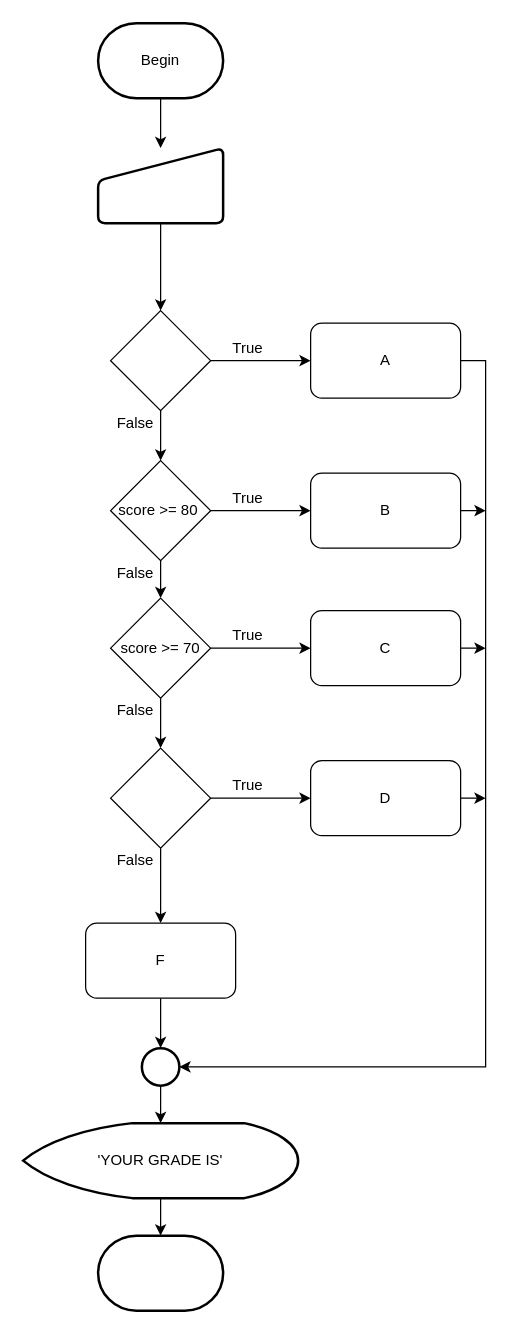
This 518x1333 diagram has some shape labels left out. The shapes that lost their labels are listed below. From the top down, each one's box as (x1, y1, x2, y2) in pixels, then its label:
(96, 146, 224, 224): Score
(109, 309, 211, 411): score >= 90
(109, 747, 211, 848): score >= 60
(96, 1234, 224, 1311): End
